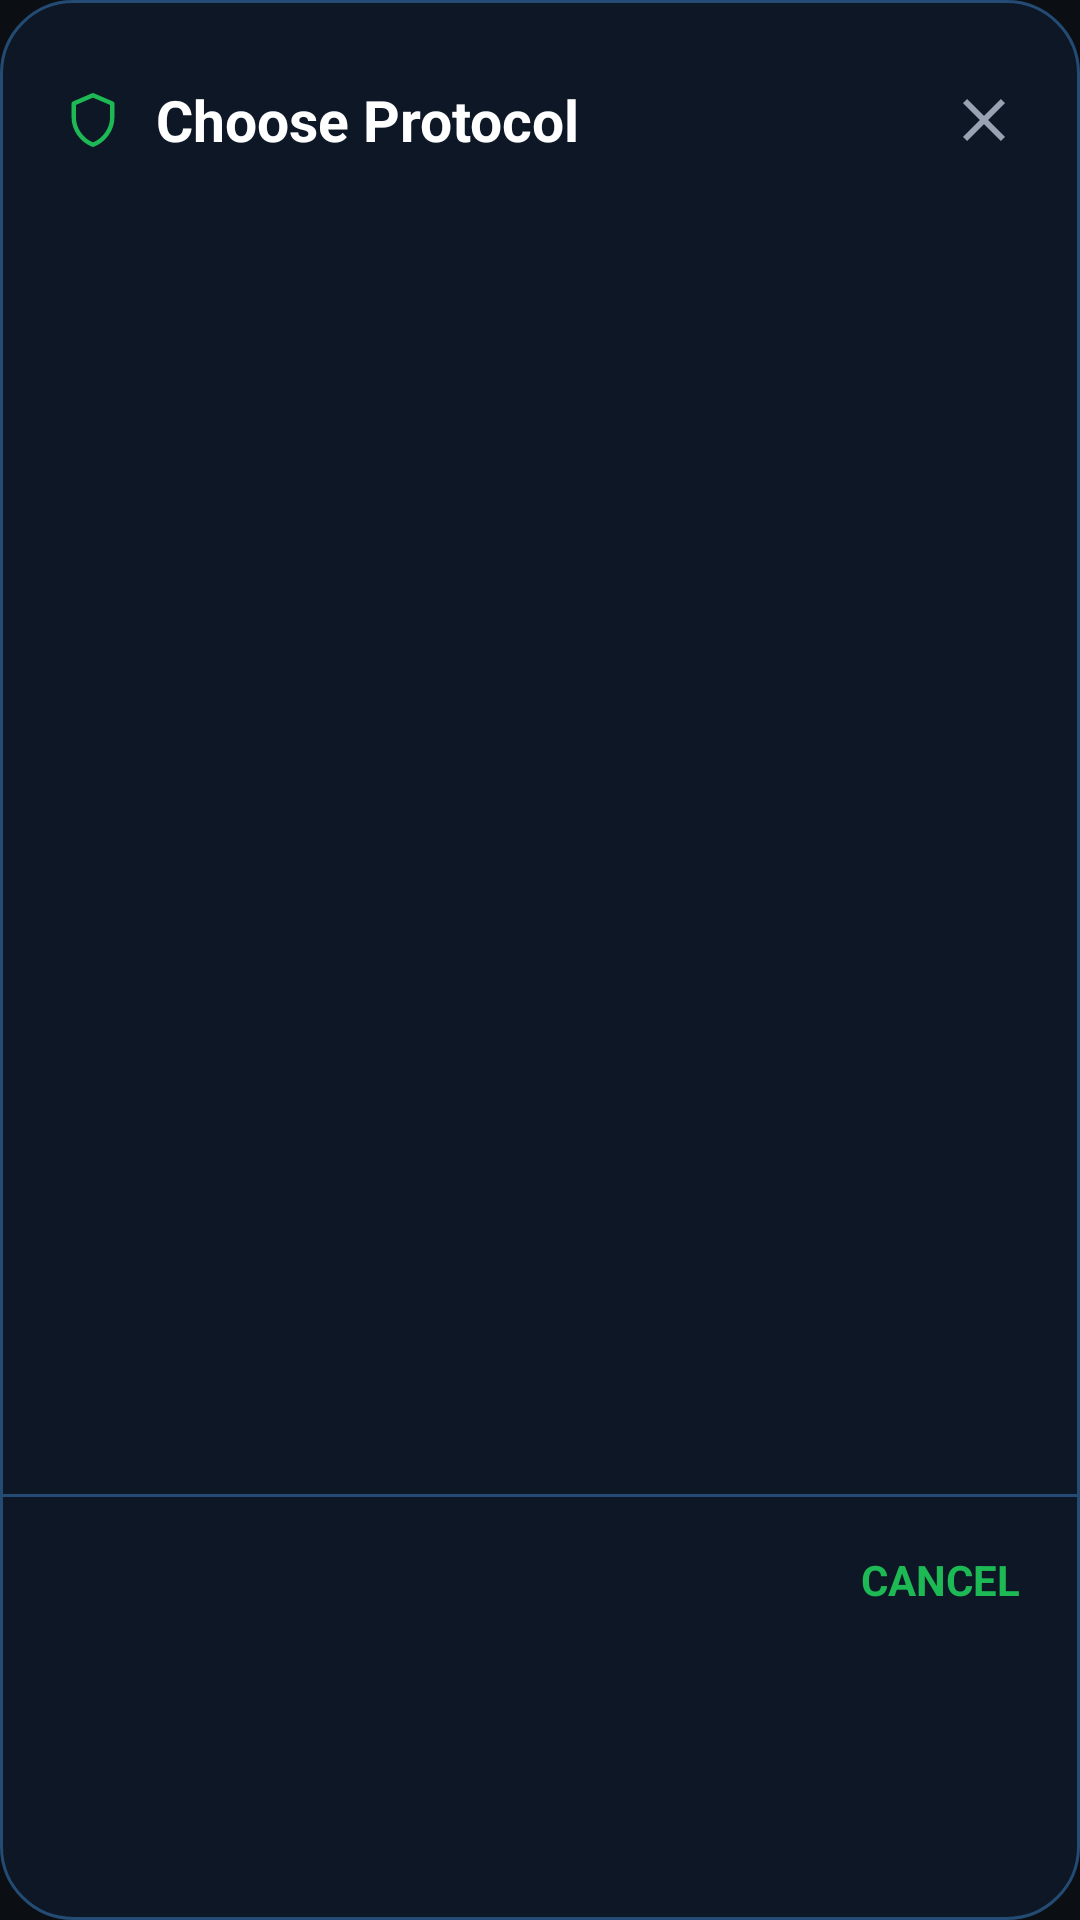

Locate icon controls on the screen. Image size 1080 × 1920, boxes as (x1, y1, x2, y2).
Close: (963, 99, 1005, 141)
shield: (71, 93, 115, 147)
